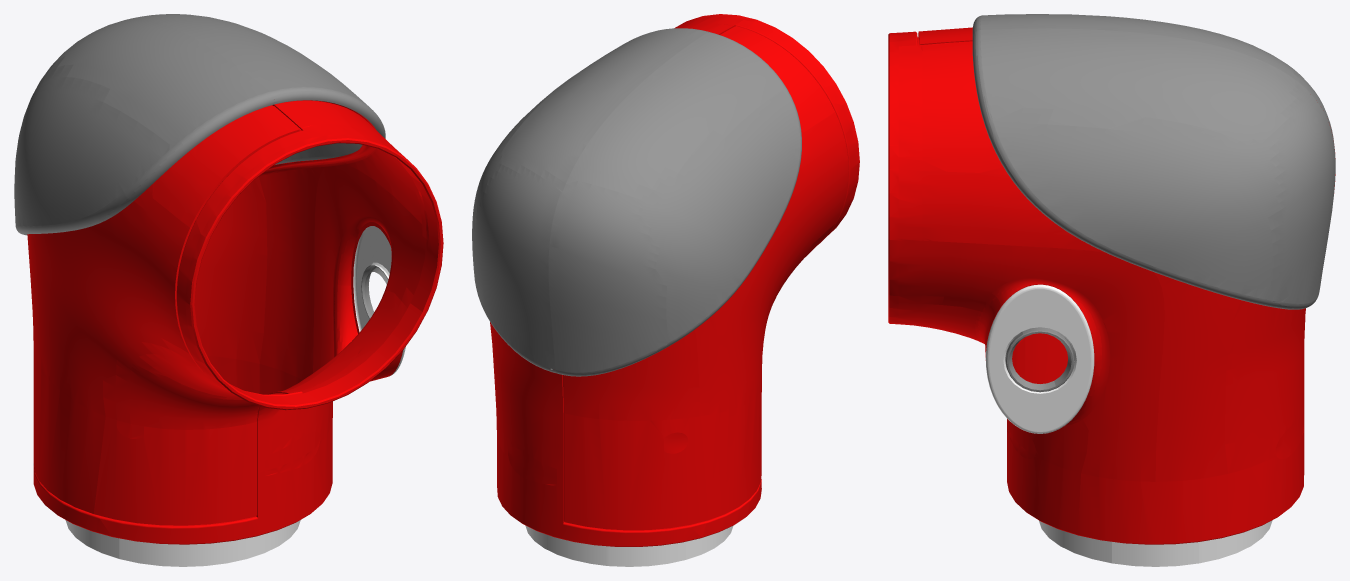
3 views of the same model, side by side, from view 1: azimuth 30°, elevation 25°; view 2: azimuth 150°, elevation 25°; view 3: azimuth 270°, elevation 25° (orthographic). The views are drawn at different scales.
Parts seen in each view (by area): view 1: _3DGeom_155, _3DGeom_154, _3DGeom_156; view 2: _3DGeom_154, _3DGeom_155, _3DGeom_156; view 3: _3DGeom_155, _3DGeom_154, _3DGeom_156.
Boxes of the visible parts, <box> form: _3DGeom_155: <box>27,100,443,544</box>; _3DGeom_154: <box>14,14,388,318</box>; _3DGeom_156: <box>65,226,405,566</box>; _3DGeom_154: <box>472,28,801,376</box>; _3DGeom_155: <box>490,14,859,546</box>; _3DGeom_156: <box>525,525,733,566</box>; _3DGeom_155: <box>888,27,1335,544</box>; _3DGeom_154: <box>972,14,1335,392</box>; _3DGeom_156: <box>985,284,1272,566</box>.
Bounding box in the file's own units: 0.0956 × 0.1278 × 0.154.
